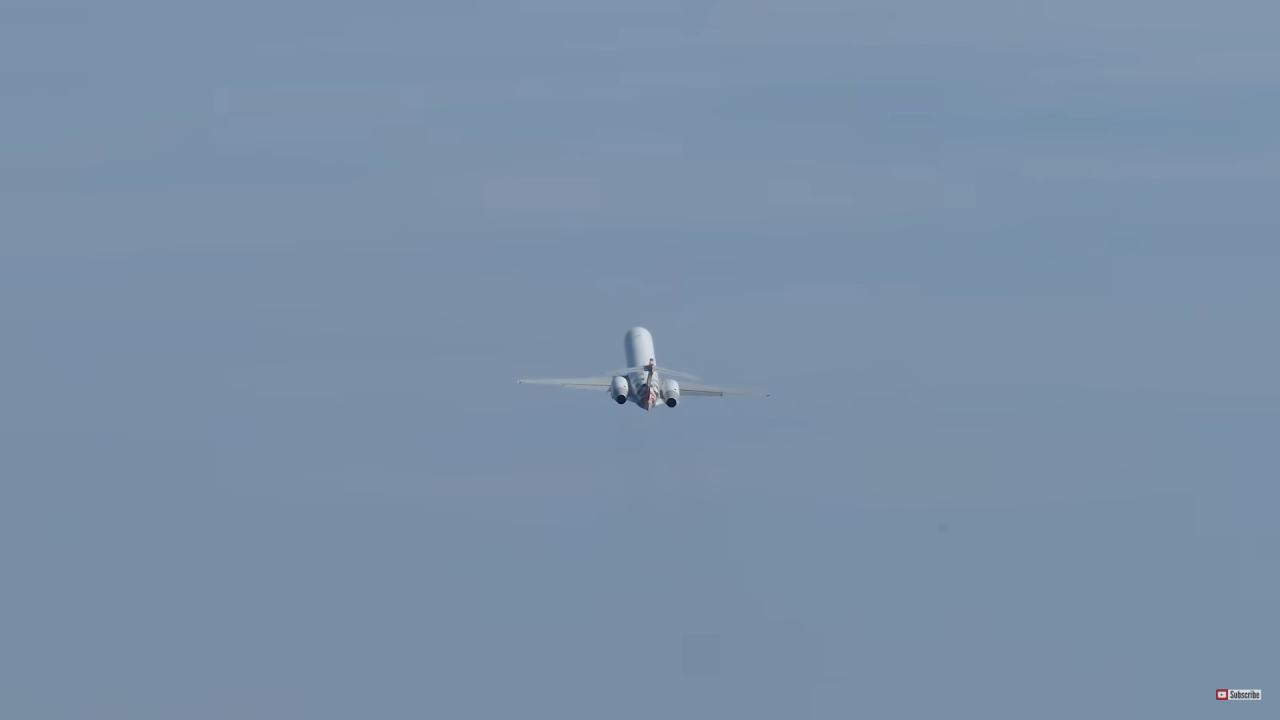Airplane: (503, 314, 787, 421)
